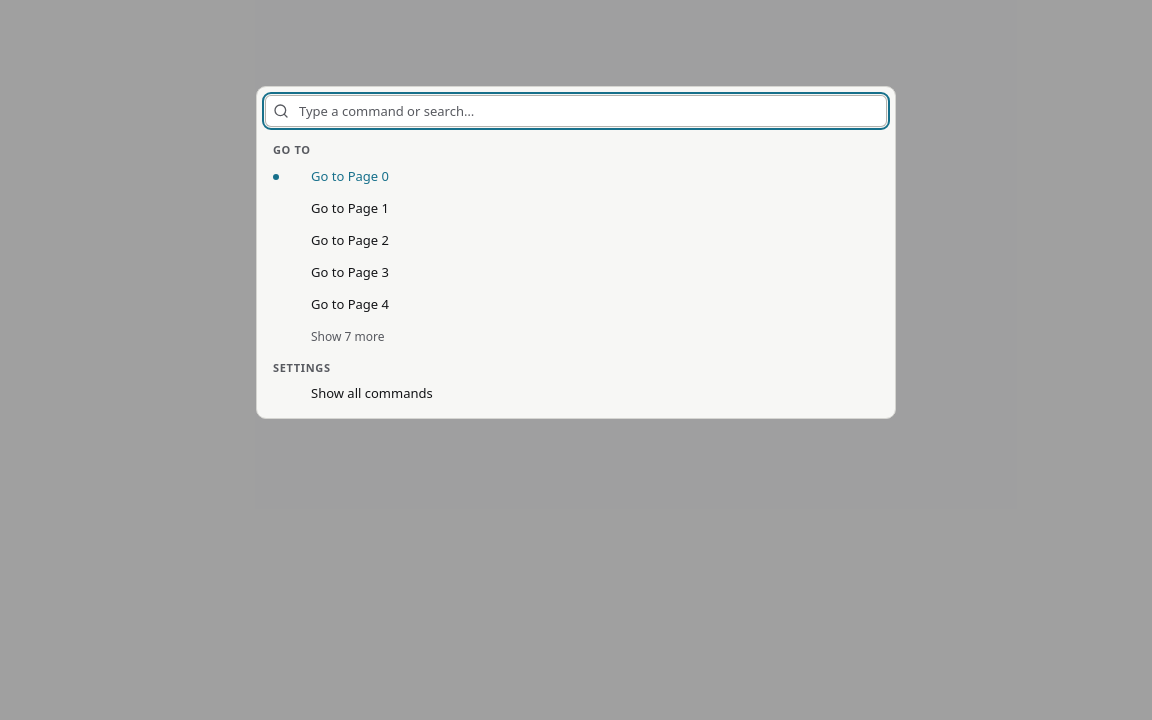
Palette › "Show all commands" lists every command in place instead of closing
In the dropdown: (588, 111) [297,95,879,127], type "show all"
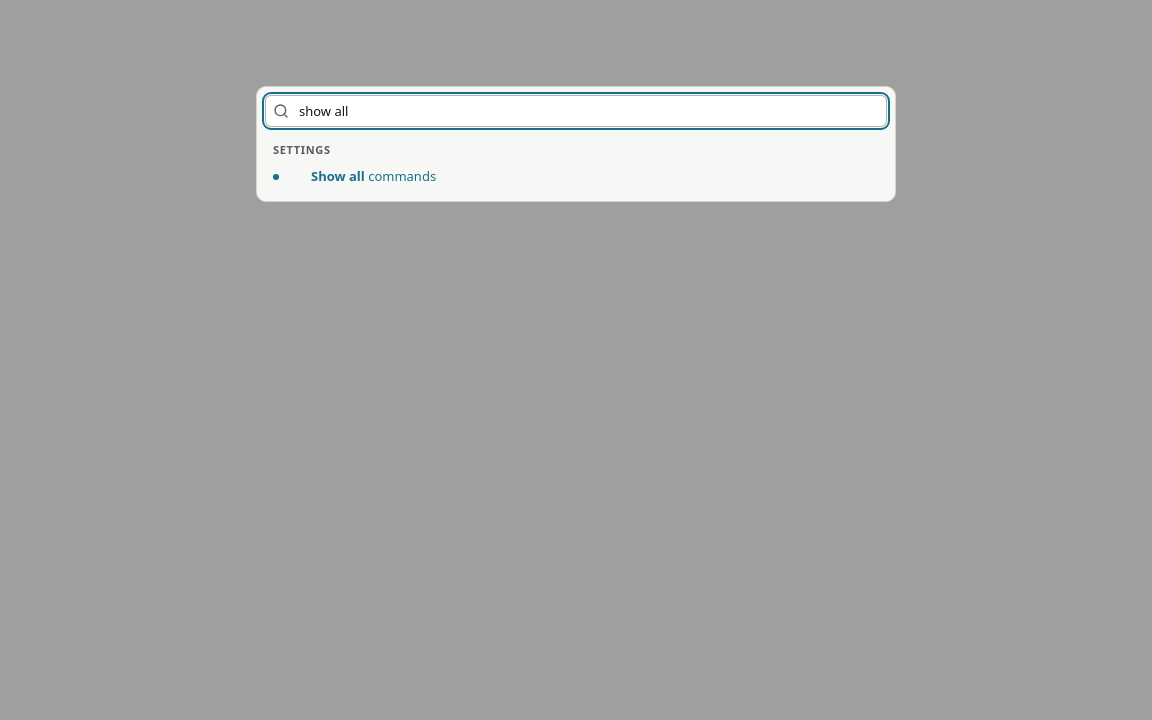
Press Enter in the dropdown, box [297,95,879,127]
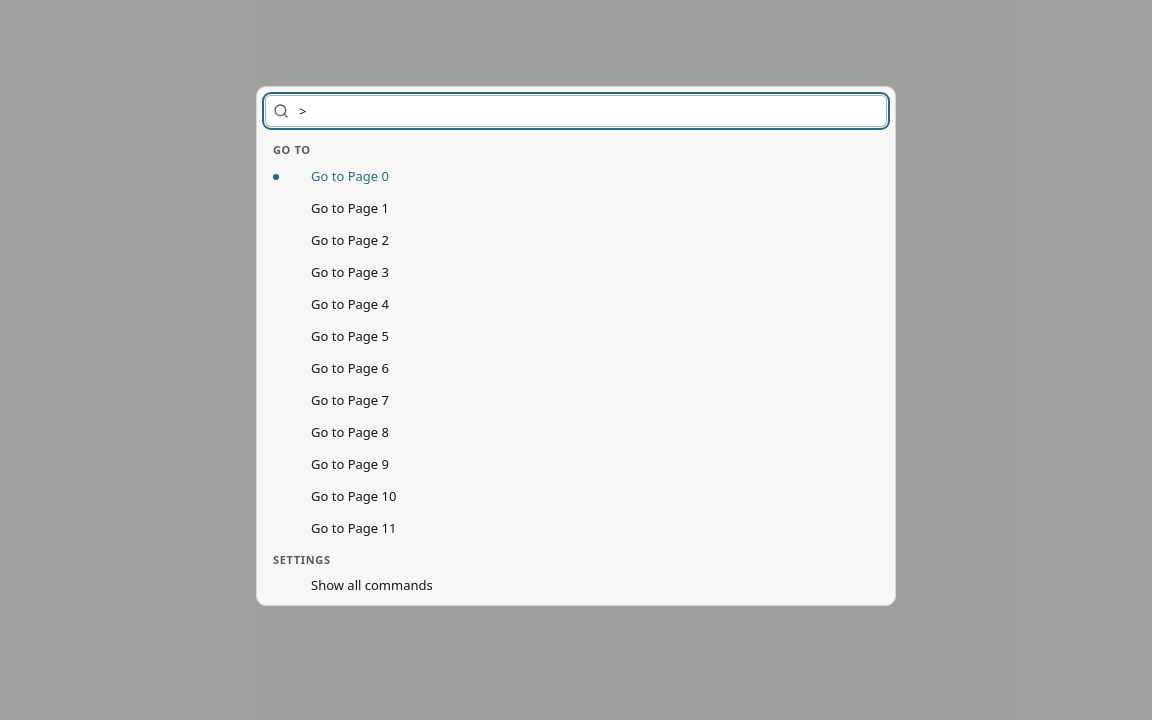
Result: the dropdown holds ">" at [297,95,879,127]
